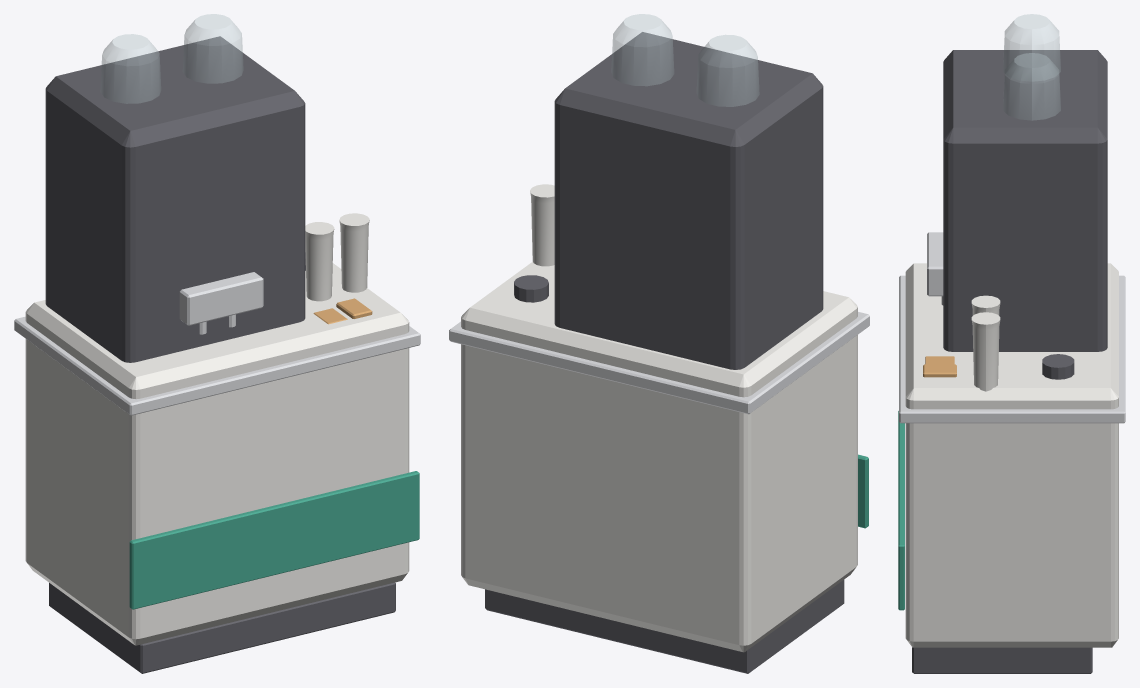
The model's file is petrol-station-and-forecourt-shop-coffee-machine-stati-0548e2cc__33971.glb.
3 views of the same model, side by side, from view 1: azimuth 30°, elevation 25°; view 2: azimuth 150°, elevation 25°; view 3: azimuth 270°, elevation 25° (orthographic). The views are drawn at different scales.
Parts seen in each view (by area): view 1: coffee-machine-station; view 2: coffee-machine-station; view 3: coffee-machine-station.
Boxes of the visible parts, x1=… form: coffee-machine-station: x1=14, y1=14, x2=420, y2=673; coffee-machine-station: x1=449, y1=14, x2=869, y2=673; coffee-machine-station: x1=898, y1=14, x2=1125, y2=673.
Size of the model in its own units: 0.99 by 1.87 by 0.692.
